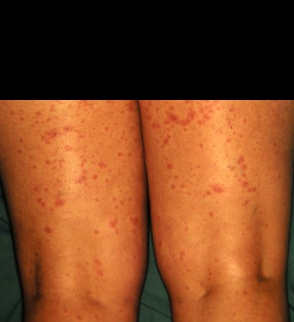SJS-TEN: (139, 99, 294, 322), (0, 99, 150, 322)
